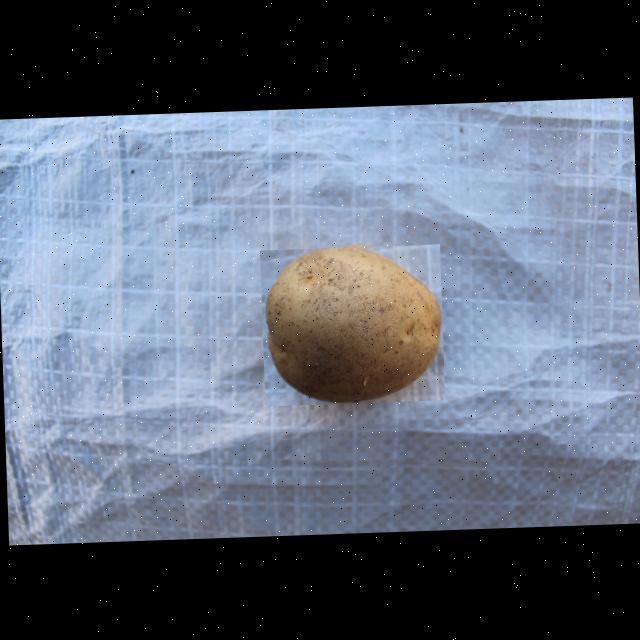Diseased-fungal potato: (258, 243, 444, 405)
